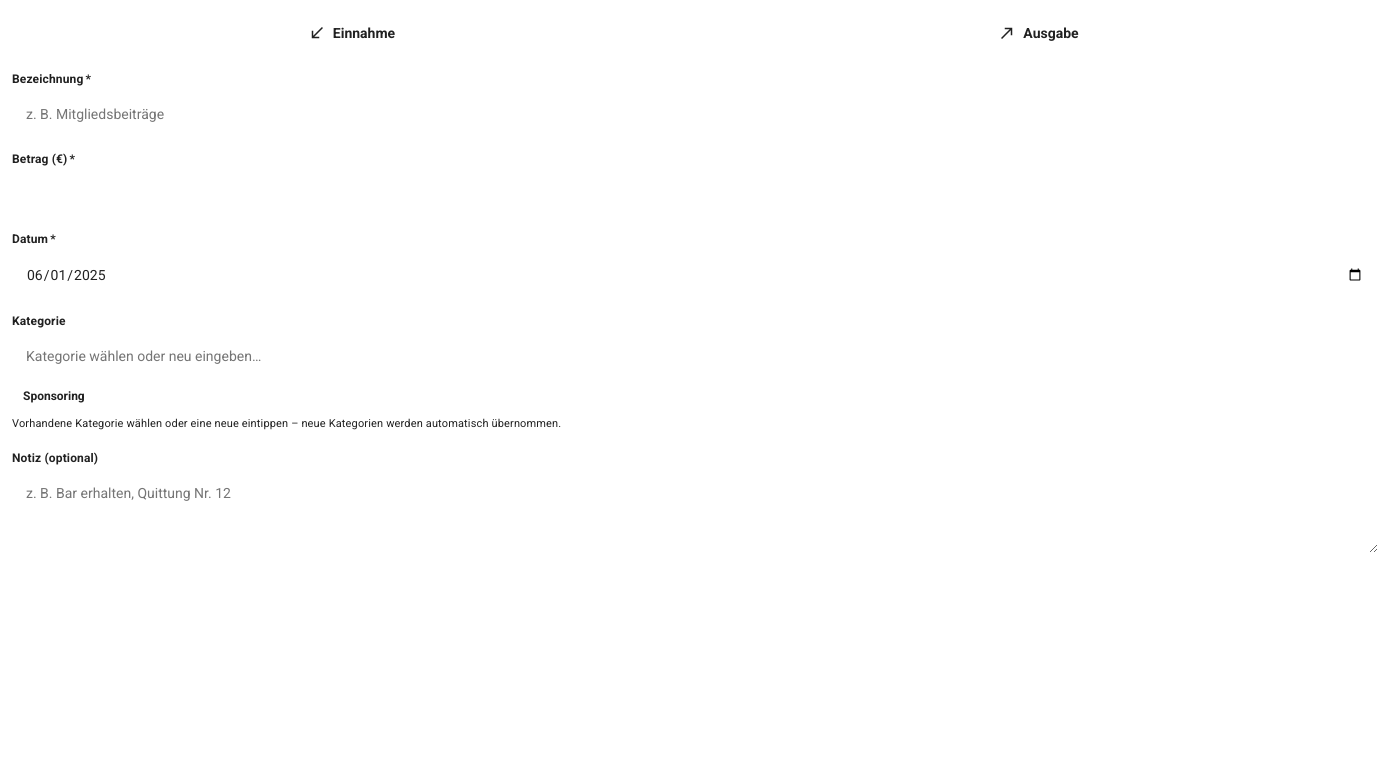
Test: TxFormSheet › clicking a category chip updates category value
Click the button "Sponsoring" at {"x": 54, "y": 396}, box [12, 384, 96, 408]
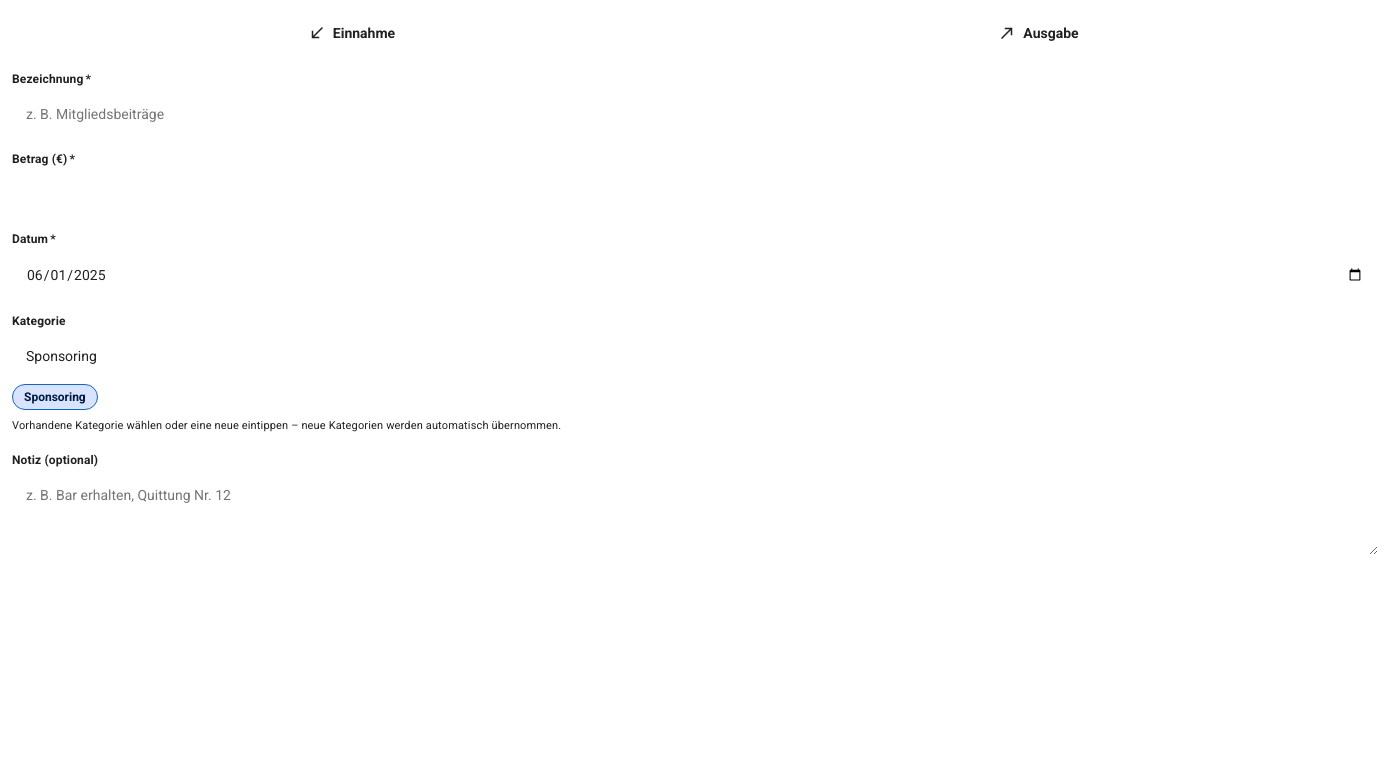
Now the field named "category" holds "Sponsoring", box [12, 336, 1378, 376]
